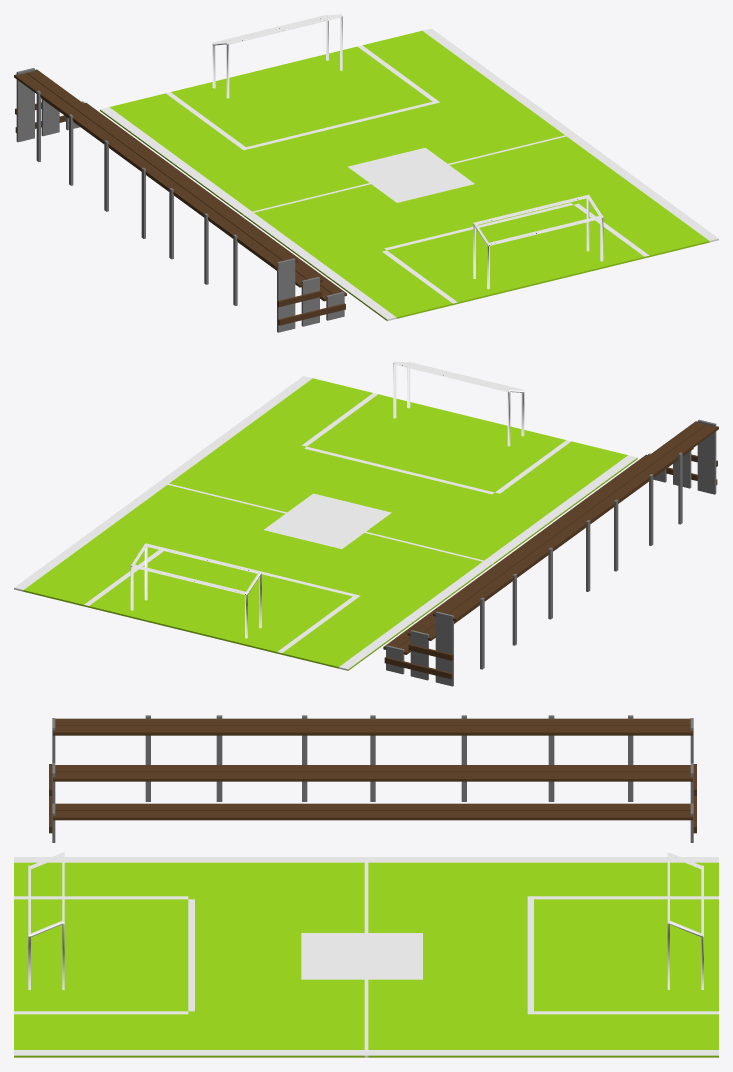
Rendered from Campo_Fut.fbx.
3 views of the same model, one above another, from view 1: azimuth 30°, elevation 25°; view 2: azimuth 150°, elevation 25°; view 3: azimuth 270°, elevation 25° (orthographic). The views are drawn at different scales.
Parts seen in each view (by area): view 1: Campo_Fut, Arquibancada; view 2: Campo_Fut, Arquibancada; view 3: Campo_Fut, Arquibancada.
Part boxes in pixels (x1,y1,x2,y2): Campo_Fut: (100,14,718,321); Arquibancada: (14,68,346,332); Campo_Fut: (14,361,637,670); Arquibancada: (383,419,718,686); Campo_Fut: (14,852,718,1057); Arquibancada: (49,715,696,842).
Size of the model in its own units: 78.8 by 12.17 by 91.2.
